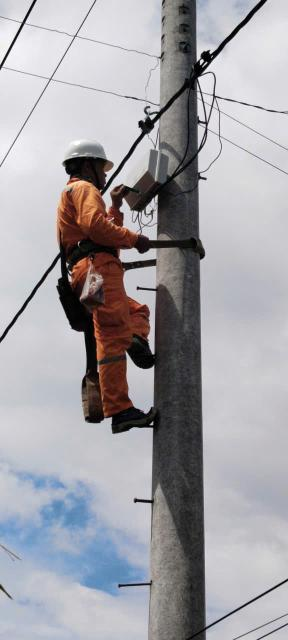gloves: (107, 182, 133, 206), (134, 233, 155, 252)
harness: (55, 227, 128, 267)
helmet: (56, 130, 114, 176)
shoes: (117, 327, 163, 374), (103, 402, 162, 433)
